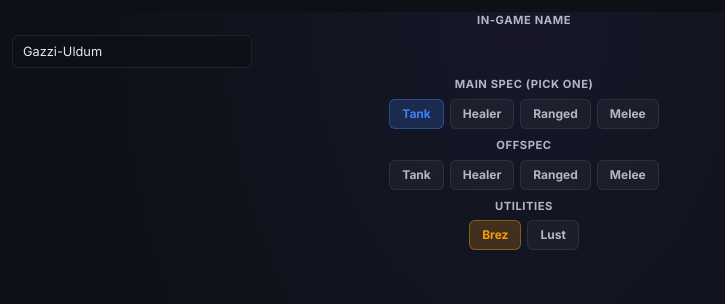
Scenario: RoleEditor name lookup › says the character was not found when the name does not resolve
This screenshot has width=725, height=304.
Replace the text in the field with placeholder "PlayerName-ServerName" with "Nobody-Uldum": [132, 51] box x1=12 y1=35 x2=252 y2=68
Wait 800 ms
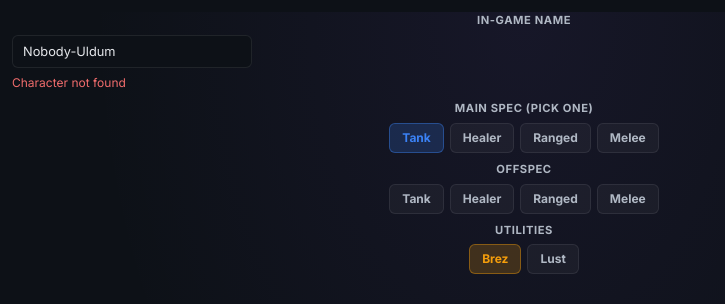
Now the message reads "Character not found", box x1=12 y1=75 x2=126 y2=90
